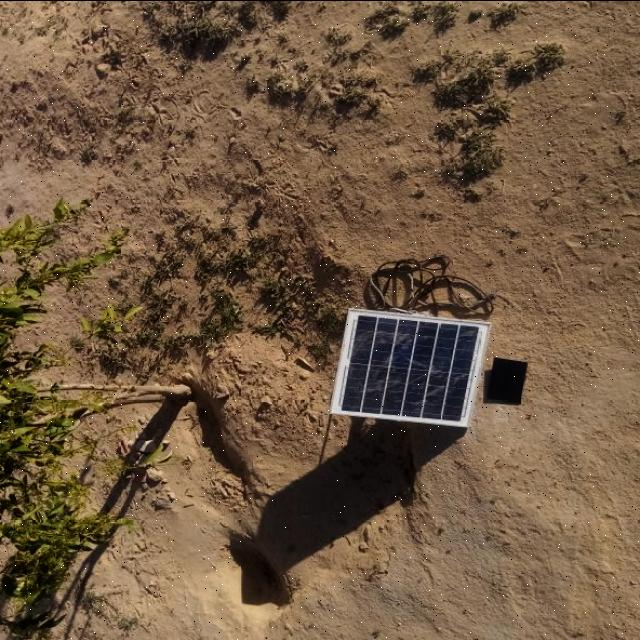Normal Solar Panel: (488, 356, 528, 406)
